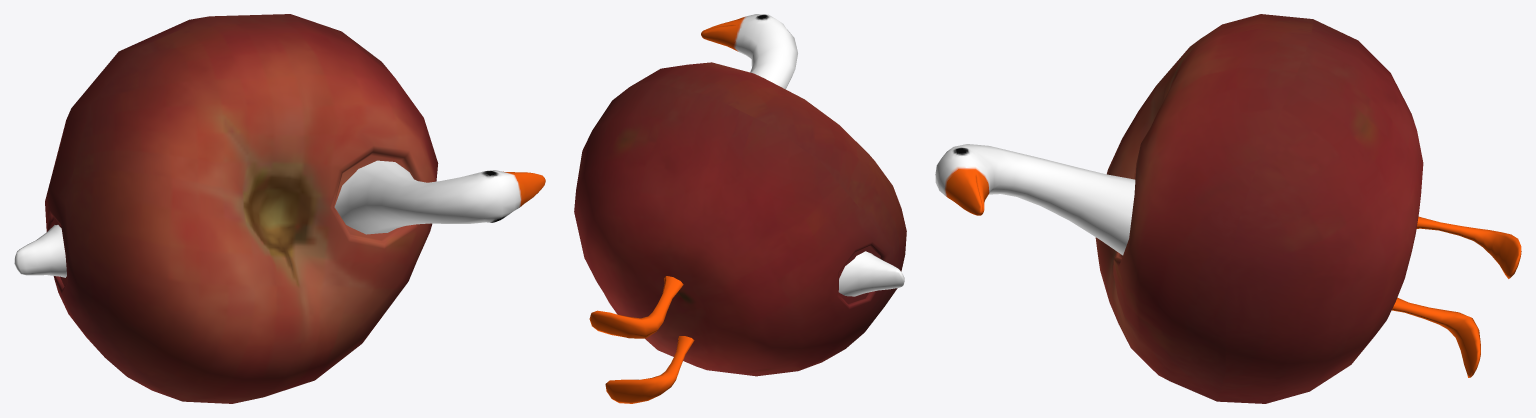
Rendered from Goose_Tomato.glb.
3 views of the same model, side by side, from view 1: azimuth 30°, elevation 25°; view 2: azimuth 150°, elevation 25°; view 3: azimuth 270°, elevation 25° (orthographic). The views are drawn at different scales.
Visible parts, largest first — view 1: xihongshi, e; view 2: xihongshi, e; view 3: xihongshi, e.
Boxes of the visible parts, x1,y1,x2,y2 form: xihongshi: [45, 14, 438, 403]; e: [14, 160, 545, 277]; xihongshi: [574, 62, 906, 376]; e: [589, 14, 904, 403]; xihongshi: [1095, 14, 1423, 403]; e: [935, 144, 1521, 377].
Bounding box in the file's own units: 1.41 × 1.22 × 1.82.
Materials: 2 (2 with a texture image).
